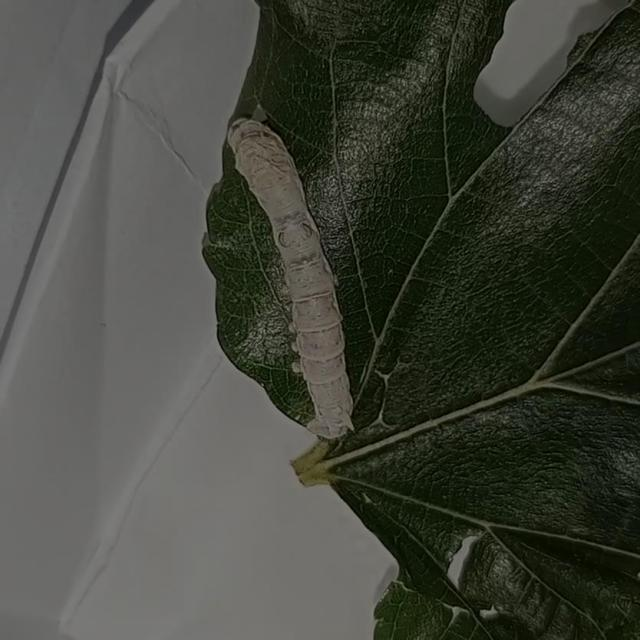Healthy: (180, 75, 438, 485)
